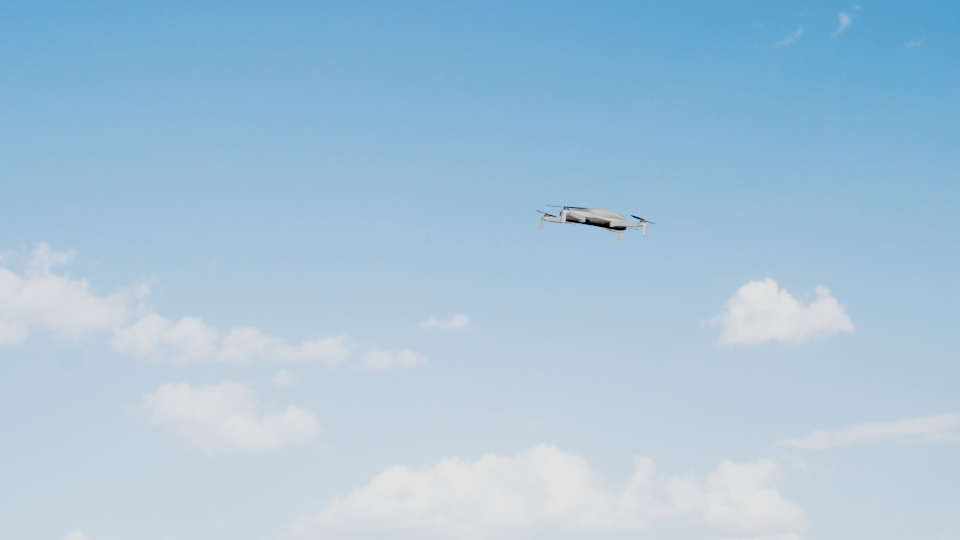drone: (534, 198, 650, 239)
